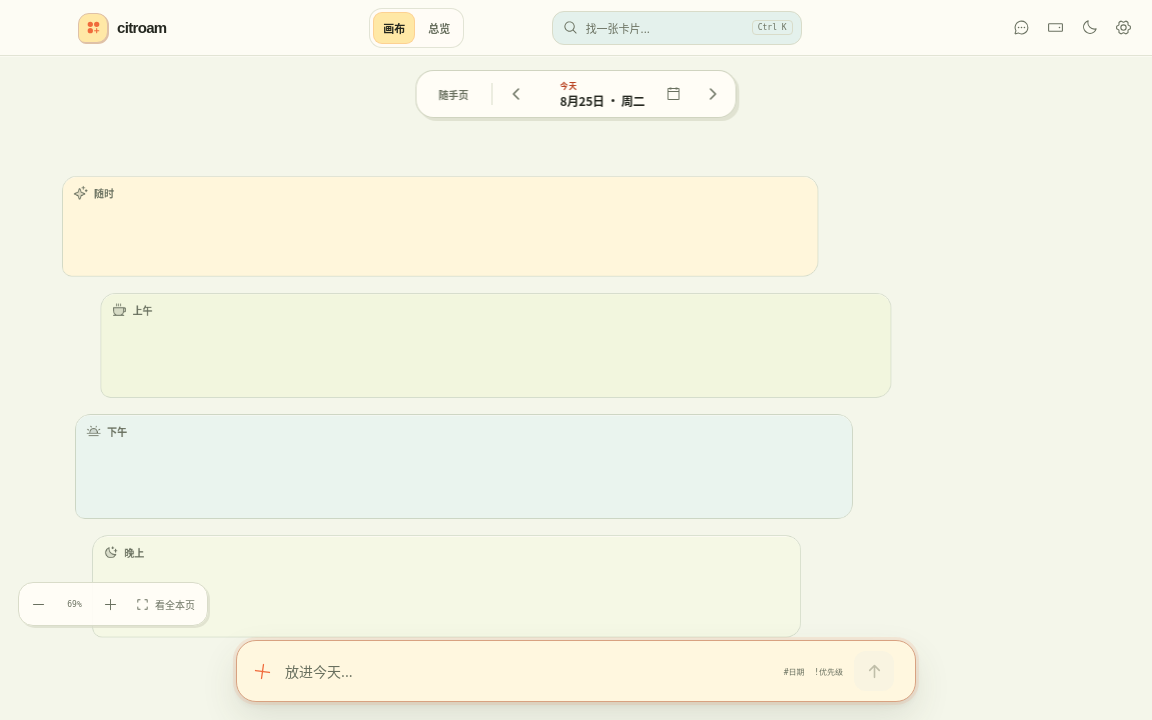
Test: date page canvas › returns focus to capture after retrying a failed save
In the field named "快速记录卡片": (528, 671) [283,652,773,690], type "写下不会丢的事"
Then press Enter
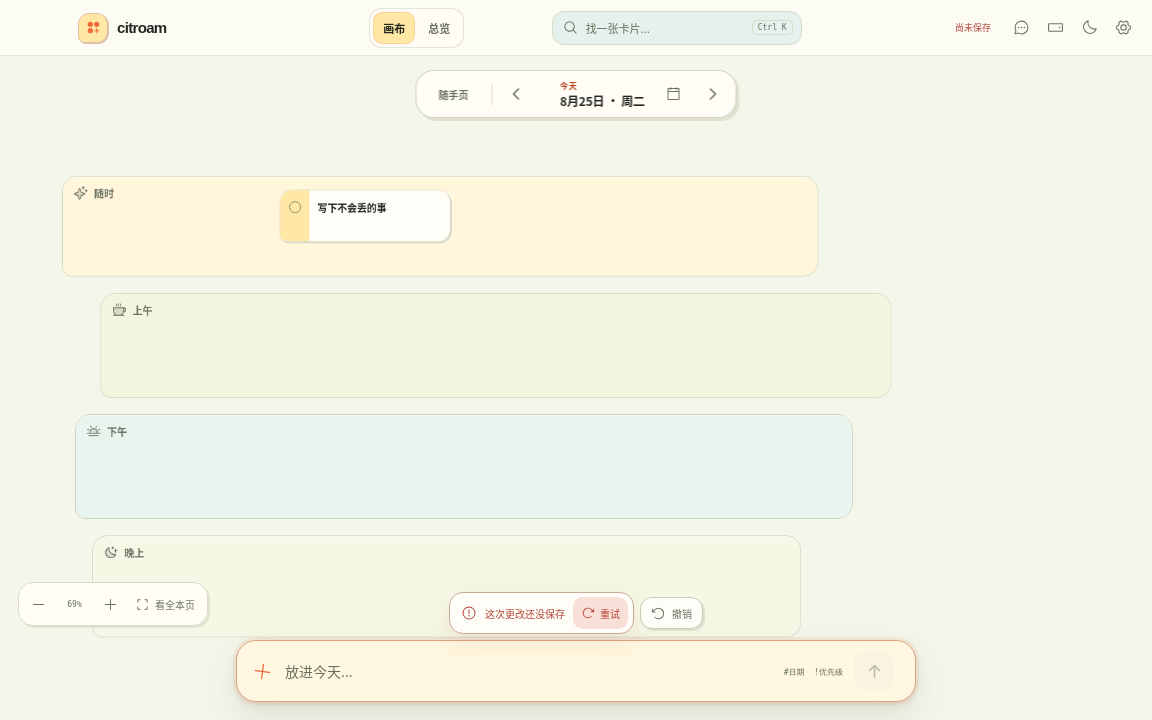
Click the button "重试": (600, 613) [573,597,628,629]
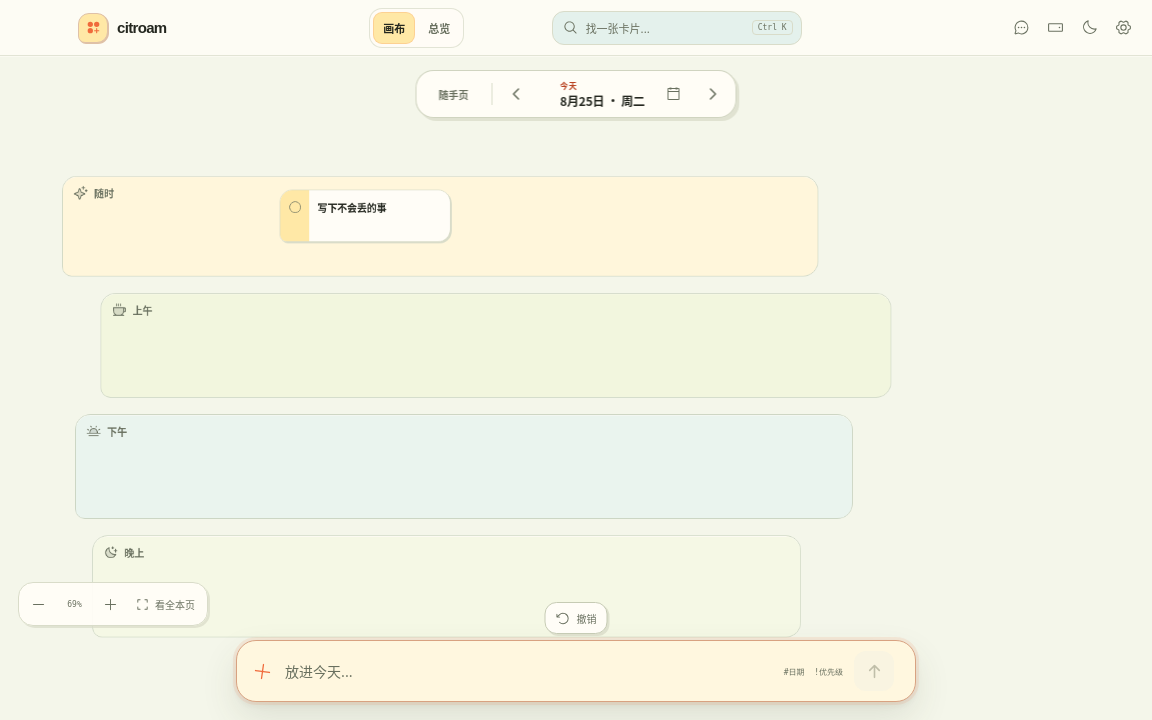
Result: the message "这次更改还没保存 重试" is gone
